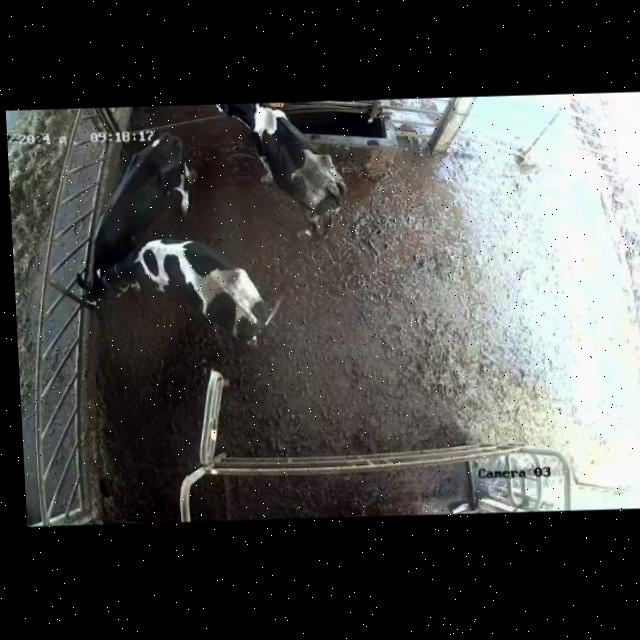stand: (83, 230, 284, 354), (66, 137, 209, 311), (216, 99, 357, 245)
